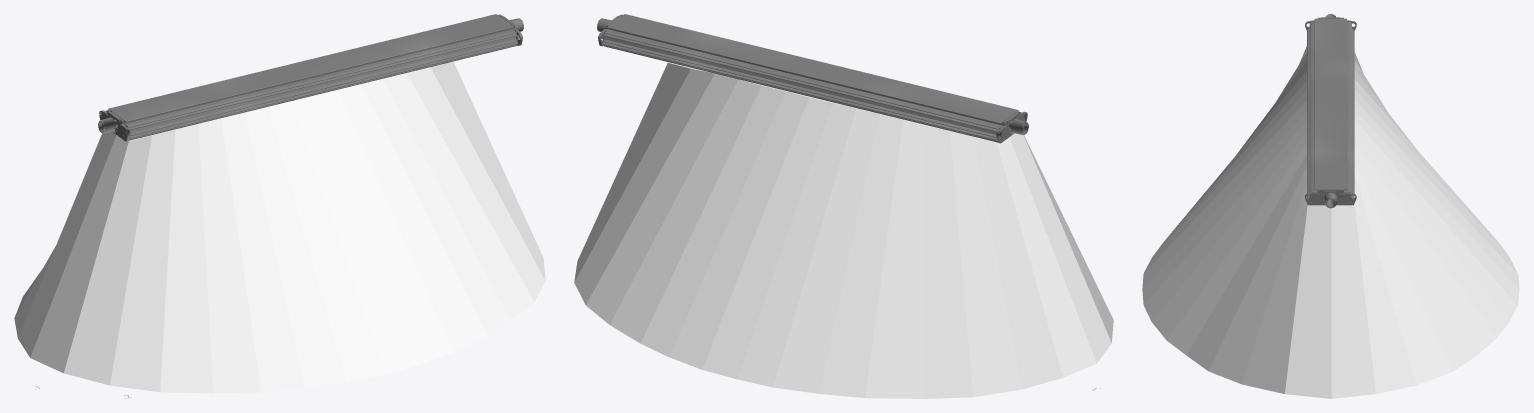
Rendered from combined.obj.
3 renders of one model, left to right at view 1: azimuth 30°, elevation 25°; view 2: azimuth 150°, elevation 25°; view 3: azimuth 270°, elevation 25°, orthographic. The views are drawn at different scales.
Visible parts, largest first — view 1: Cylinder, PLL4_UNV1S903; view 2: Cylinder, PLL4_UNV1S903; view 3: Cylinder, PLL4_UNV1S903.
Boxes of the visible parts, box(x1,y1,x2,y2) form: Cylinder: box(14, 61, 545, 393); PLL4_UNV1S903: box(98, 14, 523, 141); Cylinder: box(574, 62, 1113, 398); PLL4_UNV1S903: box(597, 14, 1028, 143); Cylinder: box(1142, 46, 1519, 398); PLL4_UNV1S903: box(1305, 14, 1356, 208).
Size of the model in its own units: 62.17 by 29.87 by 45.37.
3 materials, 2 textured.
